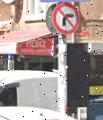rightturnsareforbidden: (55, 5, 78, 32)
